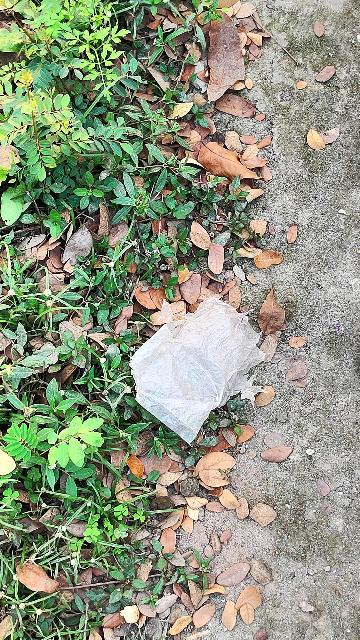polythene: (130, 301, 259, 442)
